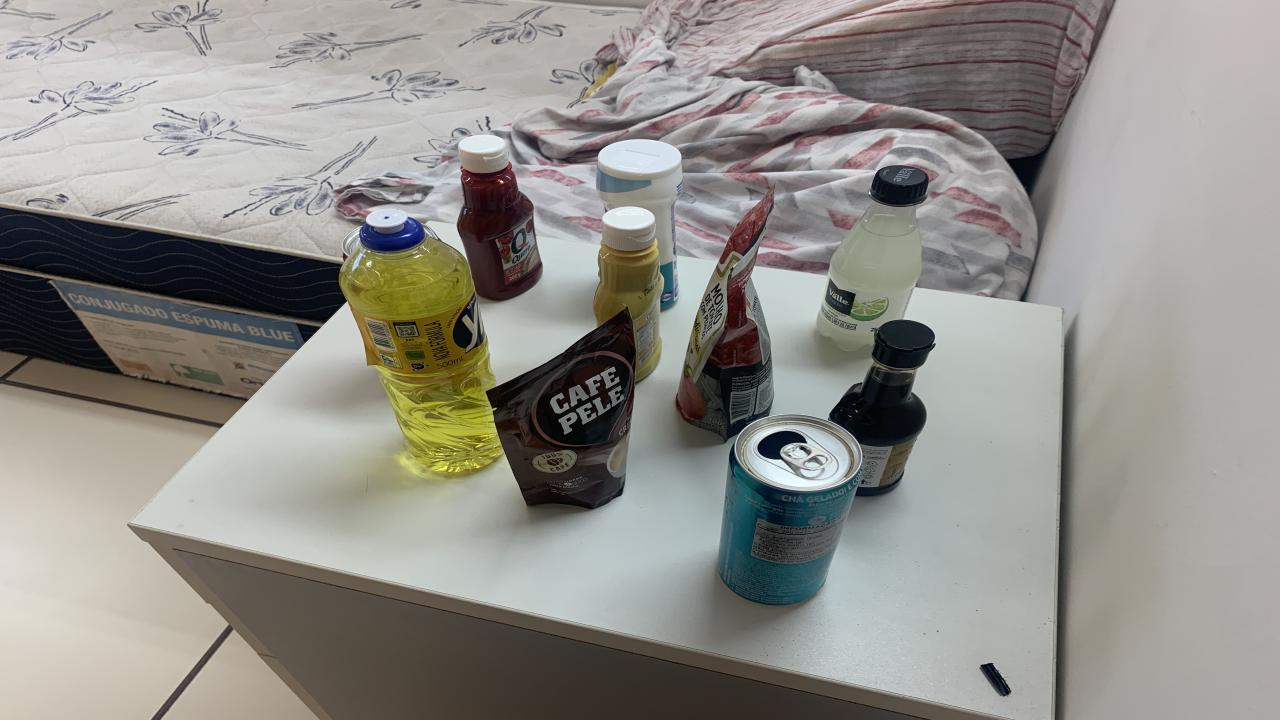Cleaner-Cleanup_Items: (595, 139, 682, 309)
Coffee-Pantry_Items: (488, 309, 635, 508)
Detergent-Cleanup_Items: (340, 210, 502, 472)
English_Sauce-Pantry_Items: (830, 319, 935, 495)
Ketchup-Pantry_Items: (458, 135, 542, 300)
Mustard-Pantry_Items: (592, 206, 665, 381)
Soda-Drinks: (818, 165, 930, 351)
Tea-Drinks: (718, 414, 862, 606)
Tomato_Sauce-Pantry_Items: (675, 188, 775, 439)
